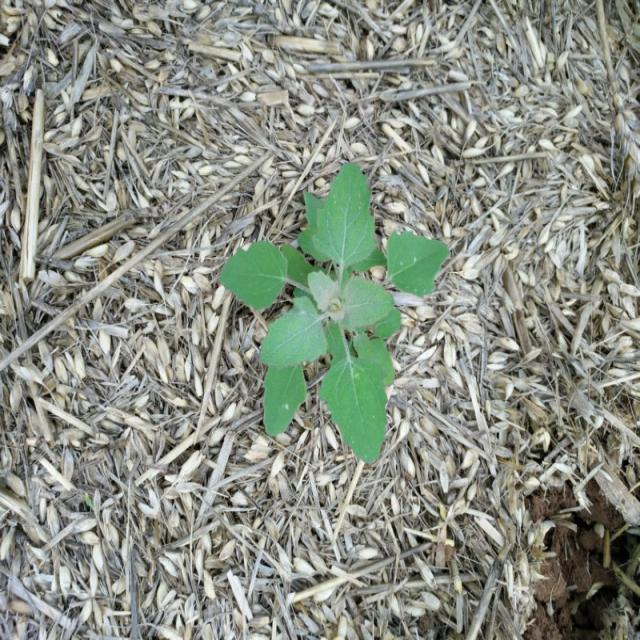goosefoots: (221, 171, 447, 469)
